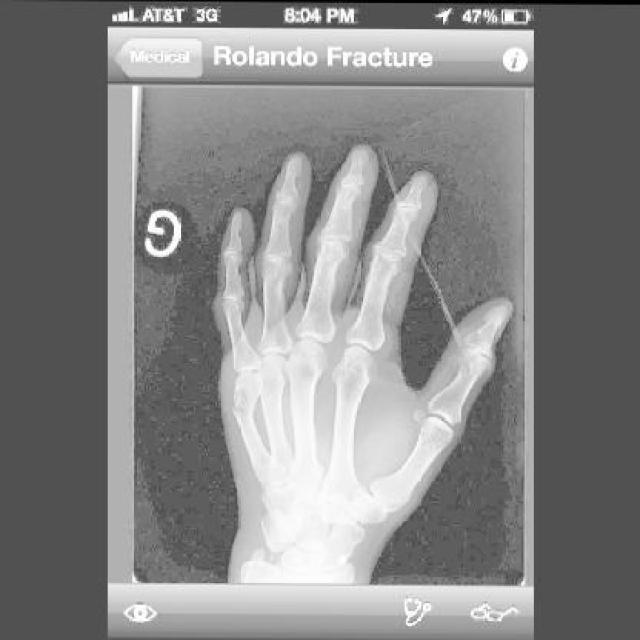Fracture: (230, 397, 256, 425)
